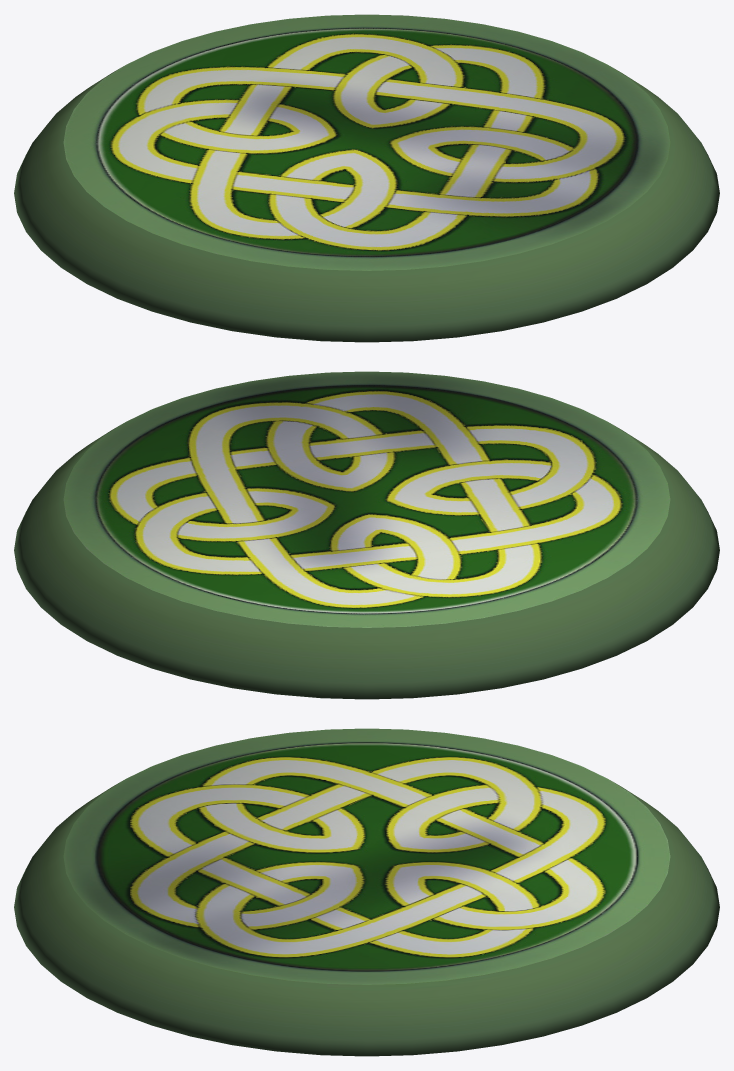
File: elfBase.glb
The picture shows the model from 3 angles, top to bottom: view 1: azimuth 30°, elevation 25°; view 2: azimuth 150°, elevation 25°; view 3: azimuth 270°, elevation 25°; orthographic projection.
Visible parts, largest first — view 1: elfBase; view 2: elfBase; view 3: elfBase.
Part boxes in pixels (x1,y1,x2,y2): elfBase: (14, 14, 719, 342); elfBase: (14, 371, 719, 699); elfBase: (14, 728, 719, 1056).
Size of the model in its own units: 2.94 by 0.2758 by 2.94.
Materials: 1 (1 with a texture image).
